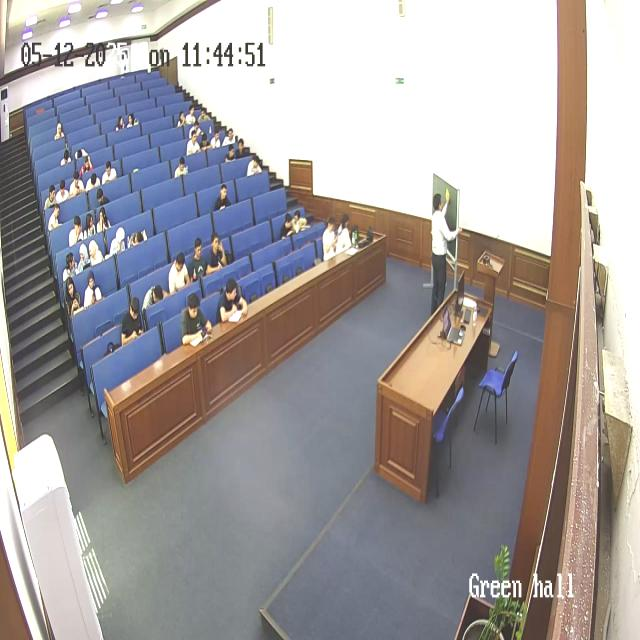person: (430, 191, 462, 315), (180, 292, 211, 346), (217, 276, 247, 326), (120, 296, 144, 346), (168, 251, 192, 295), (206, 232, 228, 276), (190, 236, 210, 282), (322, 216, 341, 262), (64, 278, 82, 324), (334, 214, 354, 254), (141, 283, 165, 313), (82, 273, 102, 308), (126, 219, 148, 249), (108, 226, 126, 257), (75, 241, 91, 275), (213, 182, 231, 212), (53, 178, 71, 208), (68, 215, 84, 248), (62, 250, 78, 282), (68, 168, 85, 197), (281, 213, 299, 240), (290, 210, 308, 236), (78, 151, 96, 177), (87, 239, 103, 268), (222, 120, 241, 144), (48, 203, 62, 233), (83, 211, 98, 239), (101, 160, 117, 186), (96, 206, 110, 235), (186, 132, 201, 156), (173, 157, 189, 179), (247, 155, 263, 177), (200, 127, 212, 156), (233, 136, 249, 157), (44, 186, 56, 212), (223, 140, 237, 162), (96, 190, 110, 211), (186, 106, 200, 127), (124, 108, 137, 128), (59, 149, 72, 168), (54, 121, 66, 140), (88, 173, 100, 191), (73, 147, 88, 161), (113, 114, 125, 131), (213, 126, 221, 150), (199, 107, 210, 120), (178, 111, 185, 127)
